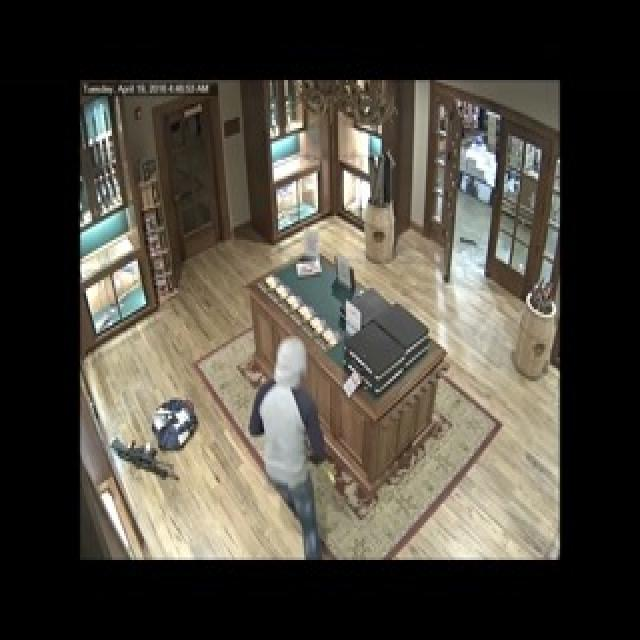thief: (243, 351, 328, 535)
